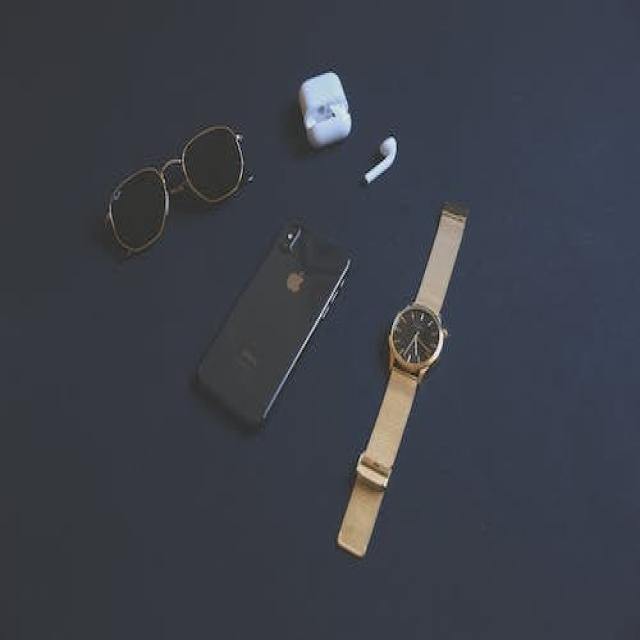airpods: (365, 132, 399, 185)
watch: (338, 206, 467, 558)
